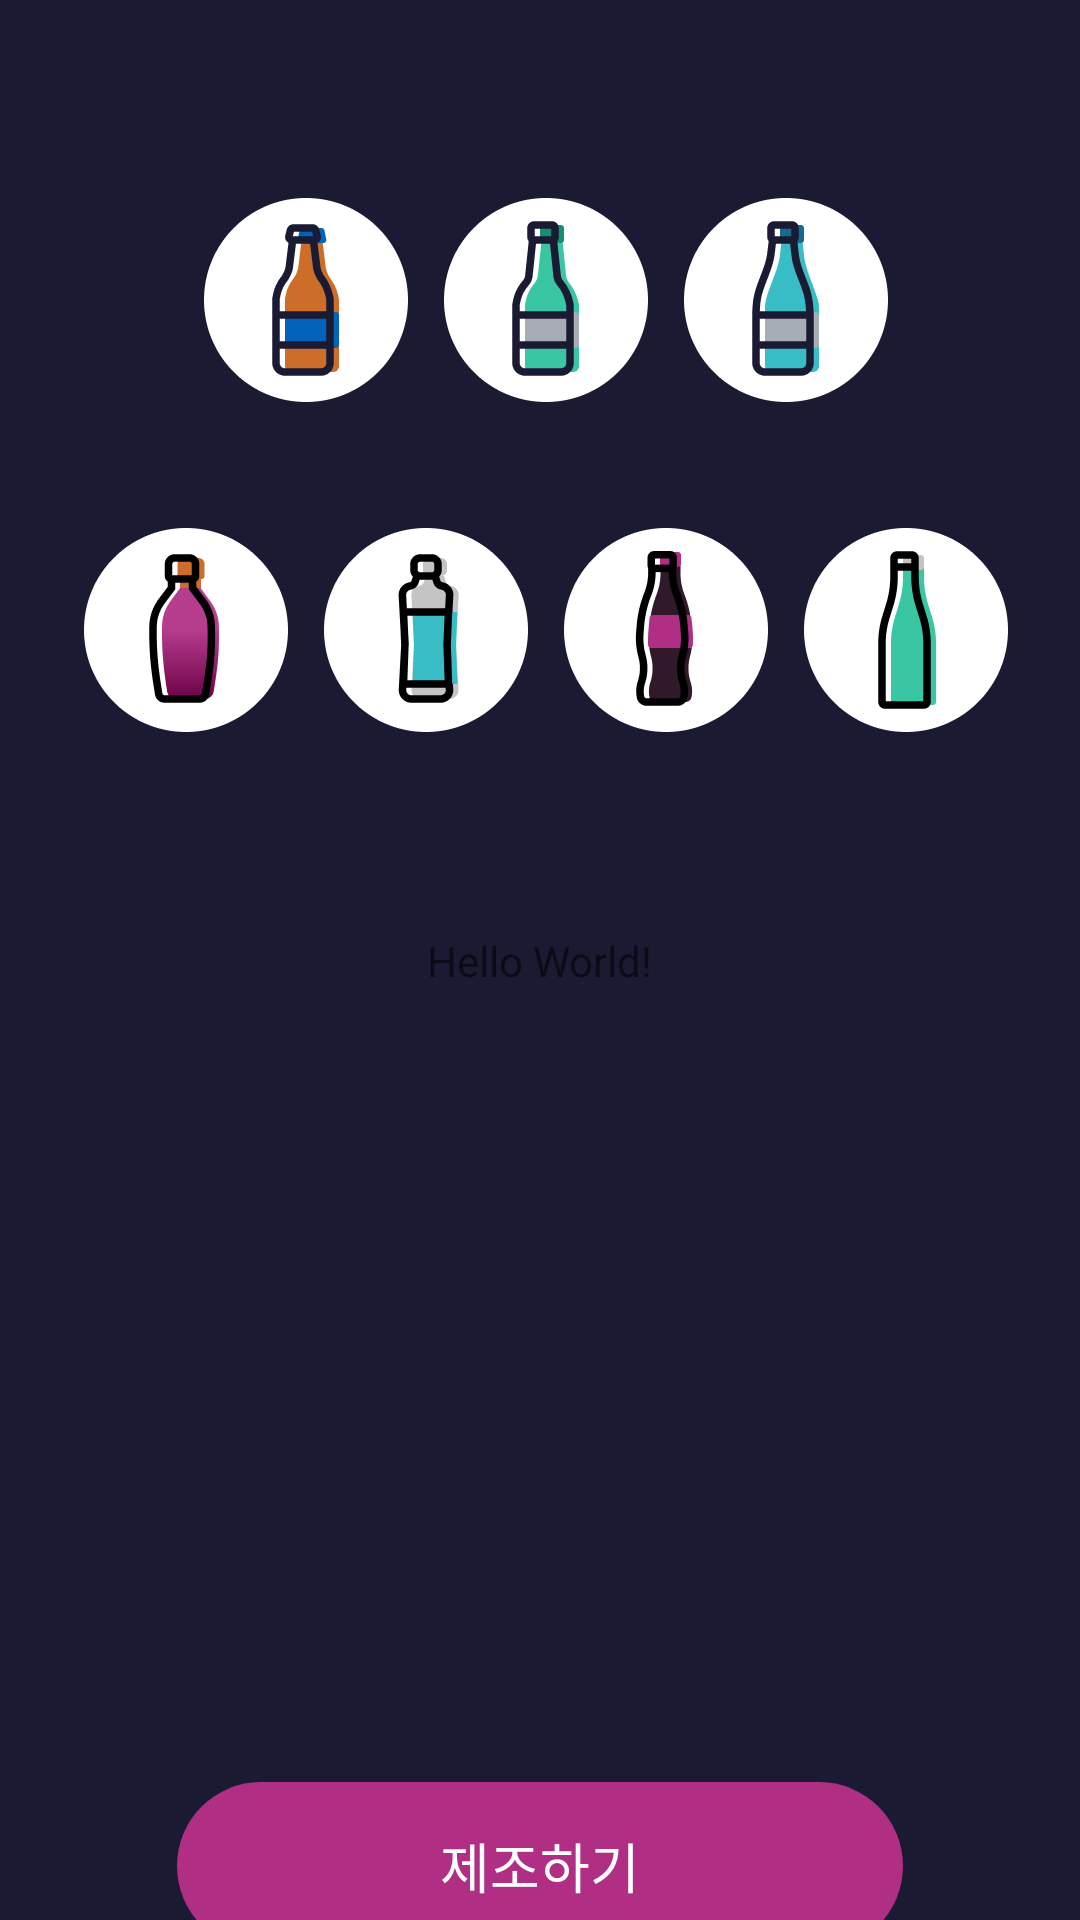

Icon click points for this 1080 × 1920 phone screenshot, format point (x, y):
beer: point (306, 300)
bokbunja: point (186, 630)
chungha: point (786, 300)
cider: point (906, 630)
coke: point (666, 630)
soju: point (546, 300)
tonic: point (426, 630)
